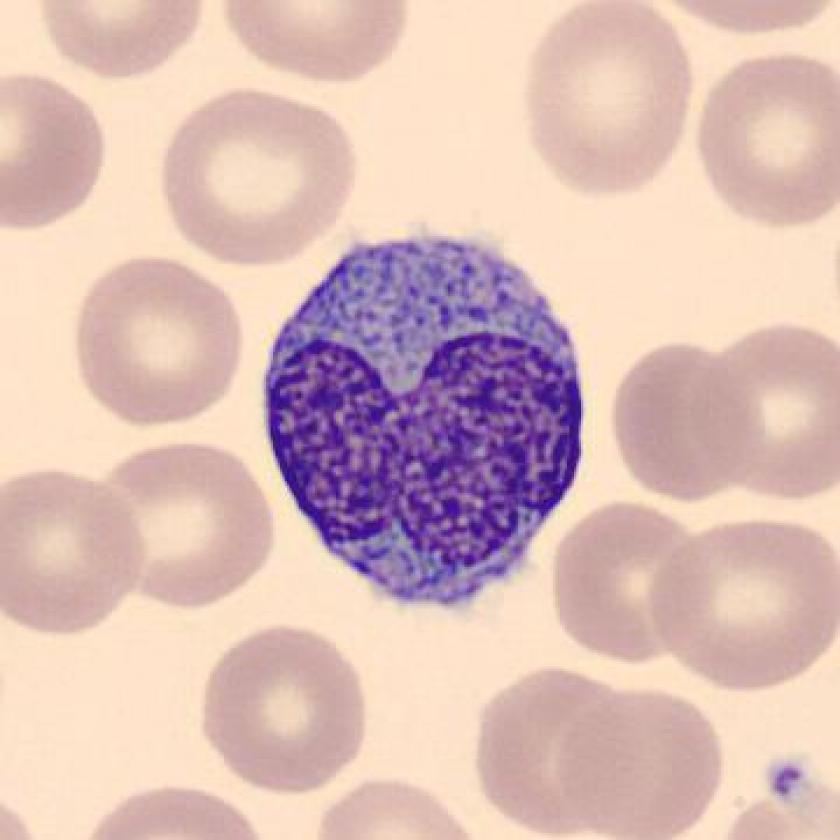monocyte: (246, 223, 603, 626)
